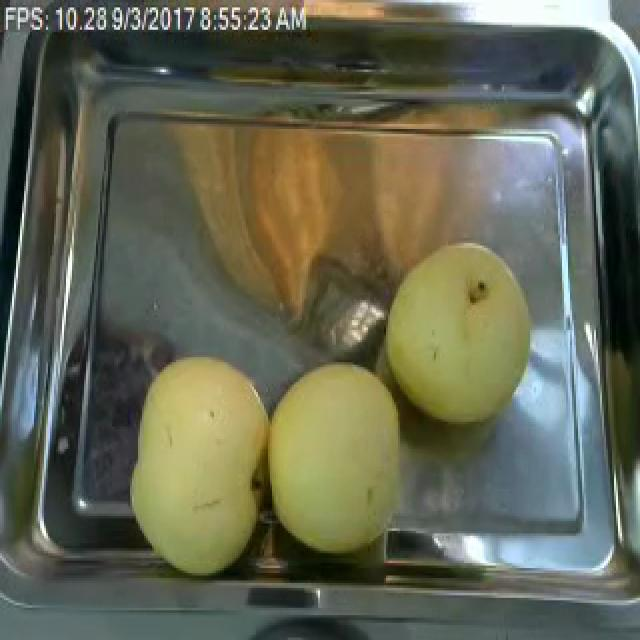Fruit: (118, 340, 276, 583), (368, 228, 546, 437), (256, 347, 420, 568)
